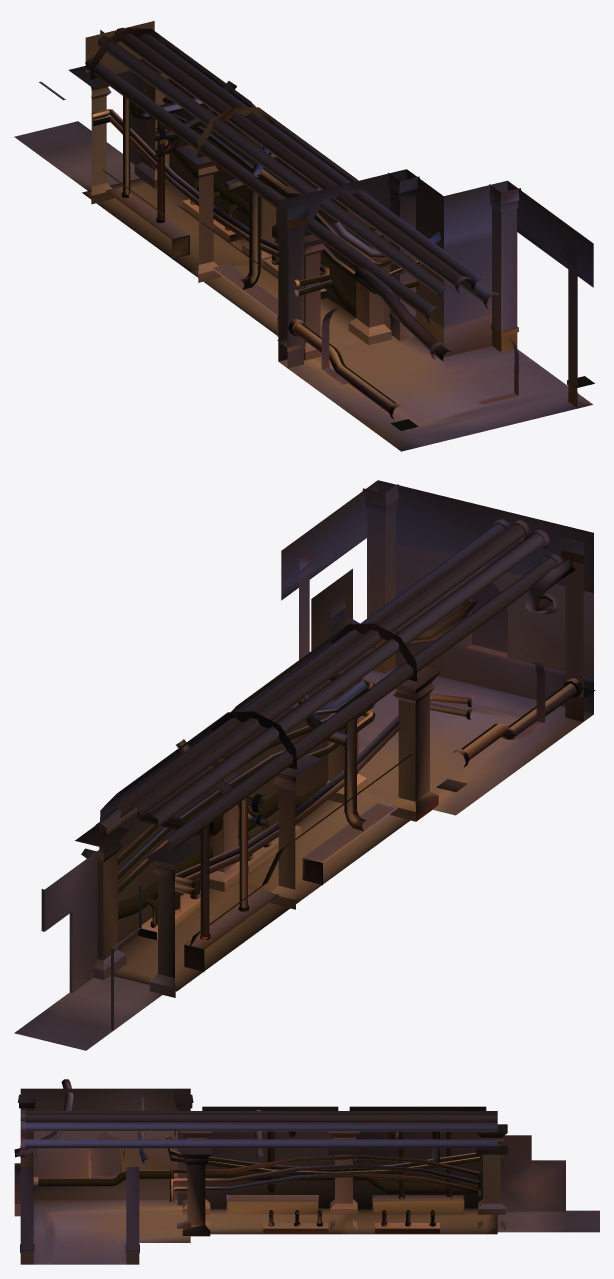
Rendered from 02Hall.gltf.
3 views of the same model, one above another, from view 1: azimuth 30°, elevation 25°; view 2: azimuth 150°, elevation 25°; view 3: azimuth 270°, elevation 25° (orthographic). The views are drawn at different scales.
Parts seen in each view (by area): view 1: stg031_o34_Mesh_0002, stg031_o32_Mesh_0002, stg031_o32_Mesh_0081, stg031_o34_Mesh_0027, stg031_o34_Mesh_0034, stg031_o32_Mesh_0078, stg031_o34_Mesh_0008, stg031_o34_Mesh_0015, stg031_g34_Mesh_0000, stg031_o34_Mesh_0021, stg031_o34_Mesh_0000, stg031_o34_Mesh_0013 (+10 smaller); view 2: stg031_o34_Mesh_0002, stg031_o34_Mesh_0027, stg031_o32_Mesh_0002, stg031_o34_Mesh_0034, stg031_o32_Mesh_0081, stg031_o34_Mesh_0000, stg031_o34_Mesh_0021, stg031_o32_Mesh_0078, stg031_o34_Mesh_0013, stg031_g34_Mesh_0000, stg031_o34_Mesh_0008, stg031_o34_Mesh_0015 (+9 smaller); view 3: stg031_o34_Mesh_0002, stg031_o34_Mesh_0021, stg031_o32_Mesh_0002, stg031_o34_Mesh_0034, stg031_g34_Mesh_0000, stg031_o32_Mesh_0081, stg031_o34_Mesh_0000, stg031_o34_Mesh_0013, stg031_o34_Mesh_0008, stg031_o32_Mesh_0078, stg031_o34_Mesh_0015, stg031_o34_Mesh_0017 (+9 smaller).
Boxes of the visible parts, box(x1,y1,x2,y2) form: stg031_o34_Mesh_0002: box(85, 27, 568, 434); stg031_o32_Mesh_0002: box(39, 21, 559, 420); stg031_o32_Mesh_0081: box(14, 28, 380, 335); stg031_o34_Mesh_0027: box(91, 44, 438, 451); stg031_o34_Mesh_0034: box(91, 81, 421, 412); stg031_o32_Mesh_0078: box(29, 124, 586, 448); stg031_o34_Mesh_0008: box(406, 169, 593, 277); stg031_o34_Mesh_0015: box(290, 195, 577, 386); stg031_g34_Mesh_0000: box(103, 85, 420, 406); stg031_o34_Mesh_0021: box(105, 64, 356, 336); stg031_o34_Mesh_0000: box(68, 59, 391, 360); stg031_o34_Mesh_0013: box(416, 238, 491, 325); stg031_o34_Mesh_0002: box(95, 524, 575, 851); stg031_o34_Mesh_0027: box(97, 480, 593, 977); stg031_o32_Mesh_0002: box(41, 693, 511, 987); stg031_o34_Mesh_0034: box(118, 678, 576, 946); stg031_o32_Mesh_0081: box(14, 623, 417, 1050); stg031_o34_Mesh_0000: box(75, 652, 441, 997); stg031_o34_Mesh_0021: box(99, 681, 397, 971); stg031_o32_Mesh_0078: box(30, 666, 570, 1046); stg031_o34_Mesh_0013: box(395, 545, 593, 678); stg031_g34_Mesh_0000: box(118, 683, 569, 946); stg031_o34_Mesh_0008: box(281, 480, 377, 648); stg031_o34_Mesh_0015: box(299, 509, 580, 697); stg031_o34_Mesh_0002: box(14, 1079, 497, 1262); stg031_o34_Mesh_0021: box(205, 1131, 482, 1233); stg031_o32_Mesh_0002: box(57, 1135, 565, 1262); stg031_o34_Mesh_0034: box(38, 1110, 482, 1223); stg031_g34_Mesh_0000: box(38, 1131, 482, 1214); stg031_o32_Mesh_0081: box(202, 1106, 599, 1234); stg031_o34_Mesh_0000: box(180, 1124, 507, 1236); stg031_o34_Mesh_0013: box(33, 1131, 177, 1178); stg031_o34_Mesh_0008: box(20, 1088, 190, 1110); stg031_o32_Mesh_0078: box(33, 1203, 599, 1262); stg031_o34_Mesh_0015: box(20, 1108, 190, 1249); stg031_o34_Mesh_0017: box(228, 1195, 462, 1213).
Size of the model in its own units: 16.68 by 12.51 by 57.25.
